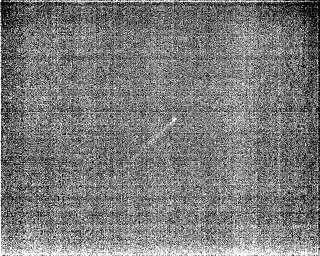AIRPLANE: (133, 116, 177, 155)
